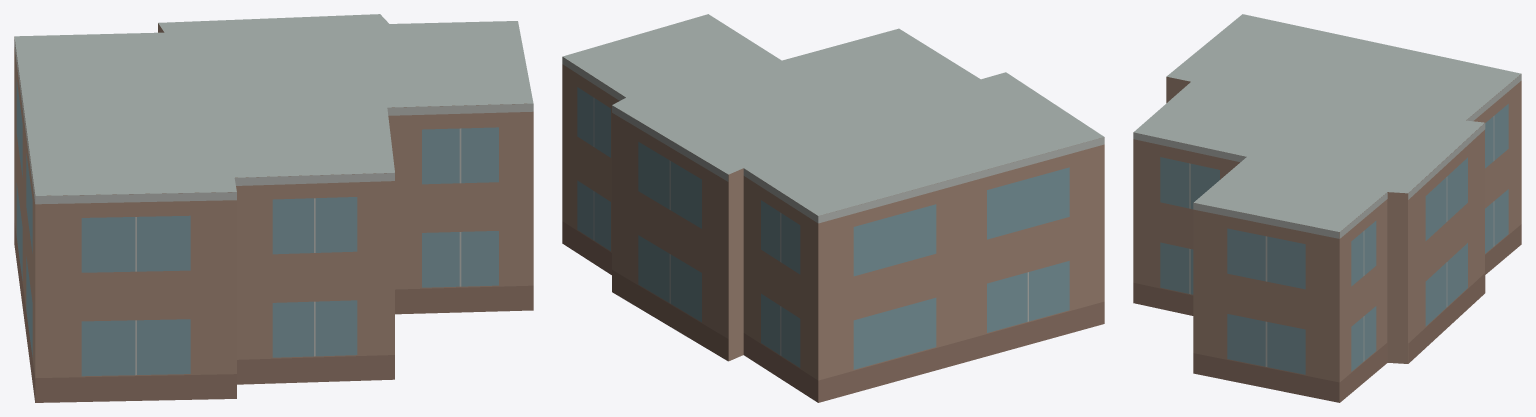
File: survey-upis-32540325.glb
3 renders of one model, left to right at view 1: azimuth 30°, elevation 25°; view 2: azimuth 150°, elevation 25°; view 3: azimuth 270°, elevation 25°, orthographic. The views are drawn at different scales.
Visible parts, largest first — view 1: survey-upis-32540325.tmp; view 2: survey-upis-32540325.tmp; view 3: survey-upis-32540325.tmp.
Part boxes in pixels (x1,y1,x2,y2): survey-upis-32540325.tmp: (14,14,533,402); survey-upis-32540325.tmp: (562,14,1104,402); survey-upis-32540325.tmp: (1133,14,1521,402).
Size of the model in its own units: 16.72 by 6.1 by 12.58.
